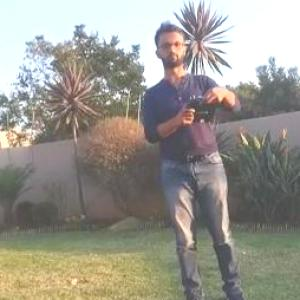follow: (140, 9, 258, 299)
